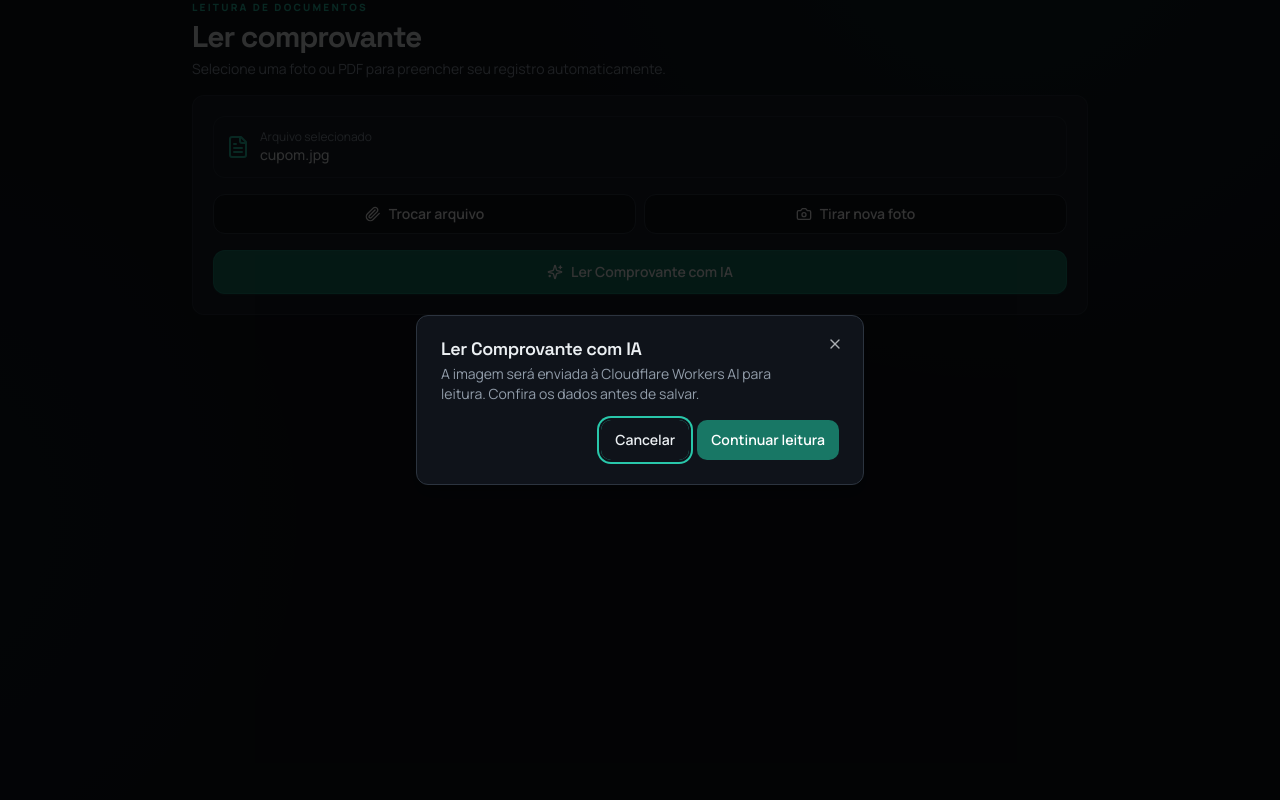
Test case: ReceiptImport free external AI reader (test) › single-flight free receipt reading › sends one request for ten rapid confirmations and permits retry after failure
Earlier steps of the test are not shown.
Later steps or results of the test are not shown.
Step 1. Click the button "Continuar leitura" → (768, 440), box [697,420,839,460]
Step 2. Click the button "Continuar leitura" → (768, 440), box [697,420,839,460]
Step 3. Click the button "Continuar leitura" → (768, 440), box [697,420,839,460]
Step 4. Click the button "Continuar leitura" → (768, 440), box [697,420,839,460]
Step 5. Click the button "Continuar leitura" → (768, 440), box [697,420,839,460]
Step 6. Click the button "Continuar leitura" → (768, 440), box [697,420,839,460]
Step 7. Click the button "Continuar leitura" → (768, 440), box [697,420,839,460]
Step 8. Click the button "Continuar leitura" → (768, 440), box [697,420,839,460]
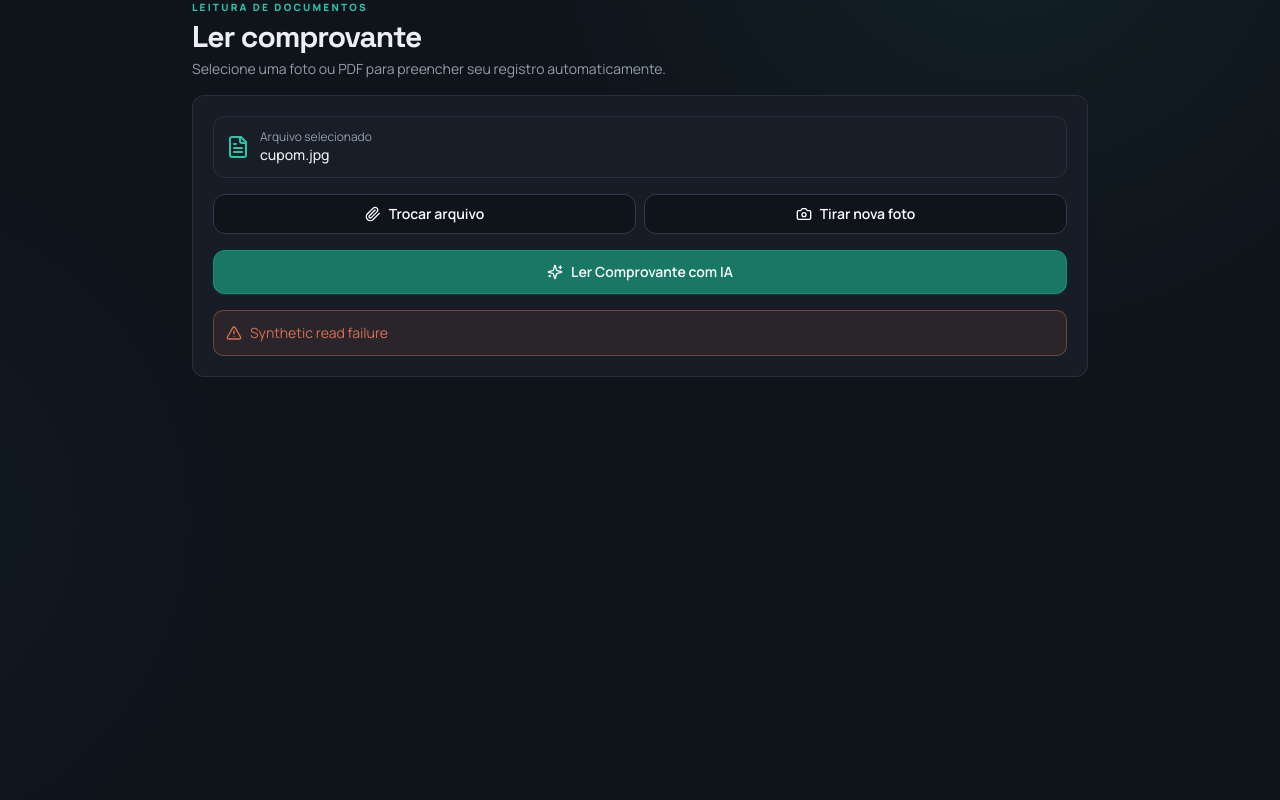
Expected: the text "Synthetic read failure" is shown, [250,323,388,342]
